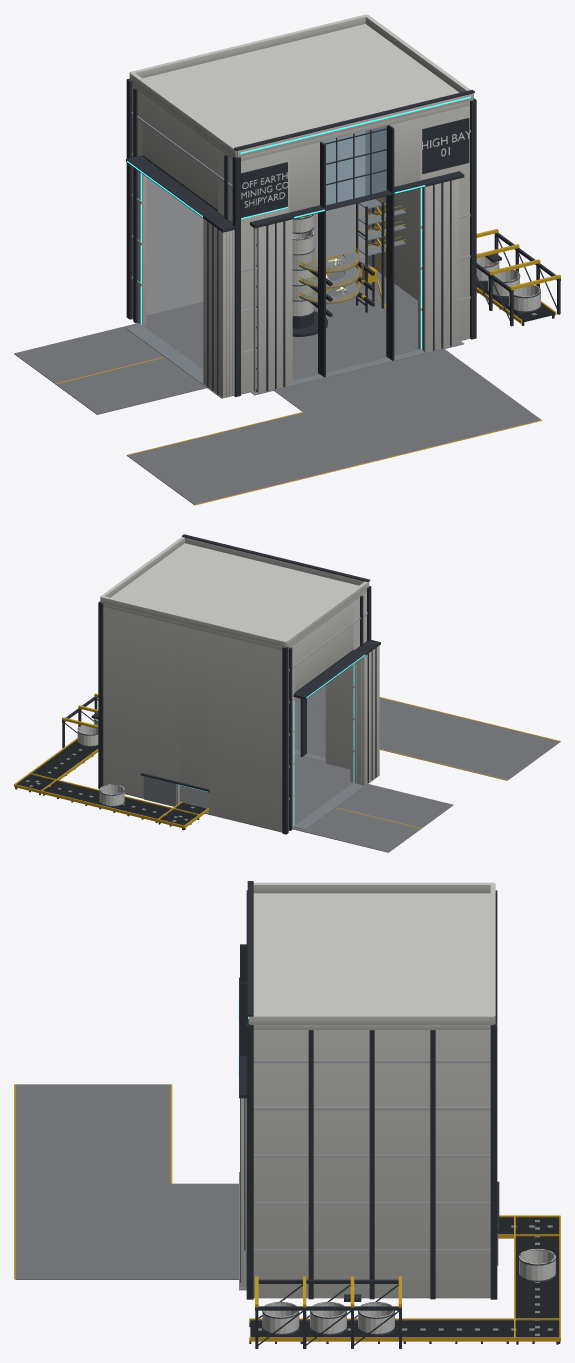
Rendered from shipyard_hb01_v3r2_0e223393.glb.
3 views of the same model, one above another, from view 1: azimuth 30°, elevation 25°; view 2: azimuth 150°, elevation 25°; view 3: azimuth 270°, elevation 25° (orthographic). The views are drawn at different scales.
Parts seen in each view (by area): view 1: HB01_Static, HB01_DoorFront, HB01_DoorSide, HB01_Decks, HB01_BuildStack; view 2: HB01_Static, HB01_DoorSide; view 3: HB01_Static, HB01_DoorFront.
Part boxes in pixels (bbox=[...]): HB01_Static: bbox=[14, 14, 560, 505]; HB01_DoorFront: bbox=[253, 179, 459, 392]; HB01_DoorSide: bbox=[203, 218, 234, 397]; HB01_Decks: bbox=[299, 205, 405, 303]; HB01_BuildStack: bbox=[292, 214, 314, 328]; HB01_Static: bbox=[14, 534, 560, 852]; HB01_DoorSide: bbox=[354, 645, 379, 785]; HB01_Static: bbox=[14, 881, 560, 1348]; HB01_DoorFront: bbox=[240, 1098, 246, 1287].
Size of the model in its own units: 144 by 72.05 by 126.
